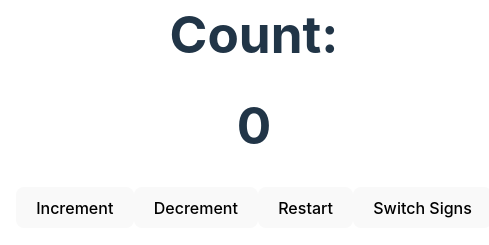
Test: <Counter /> › should increment 1 when click at increment button
Click the button "Increment". click: [75, 208]
box: top-left (16, 187), bottom-right (134, 228)
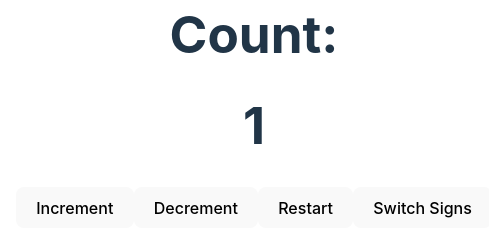
Check: the heading with test id "countNumber" reads "1", box top-left (243, 94), bottom-right (265, 156)
